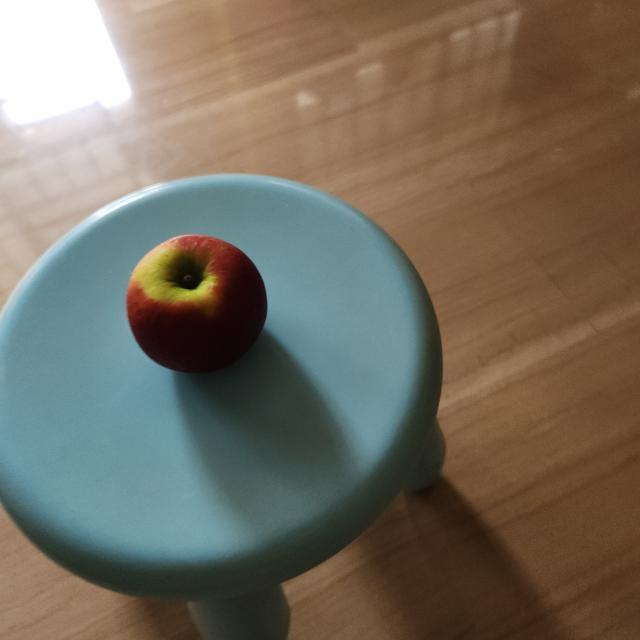apple: (120, 227, 276, 383)
